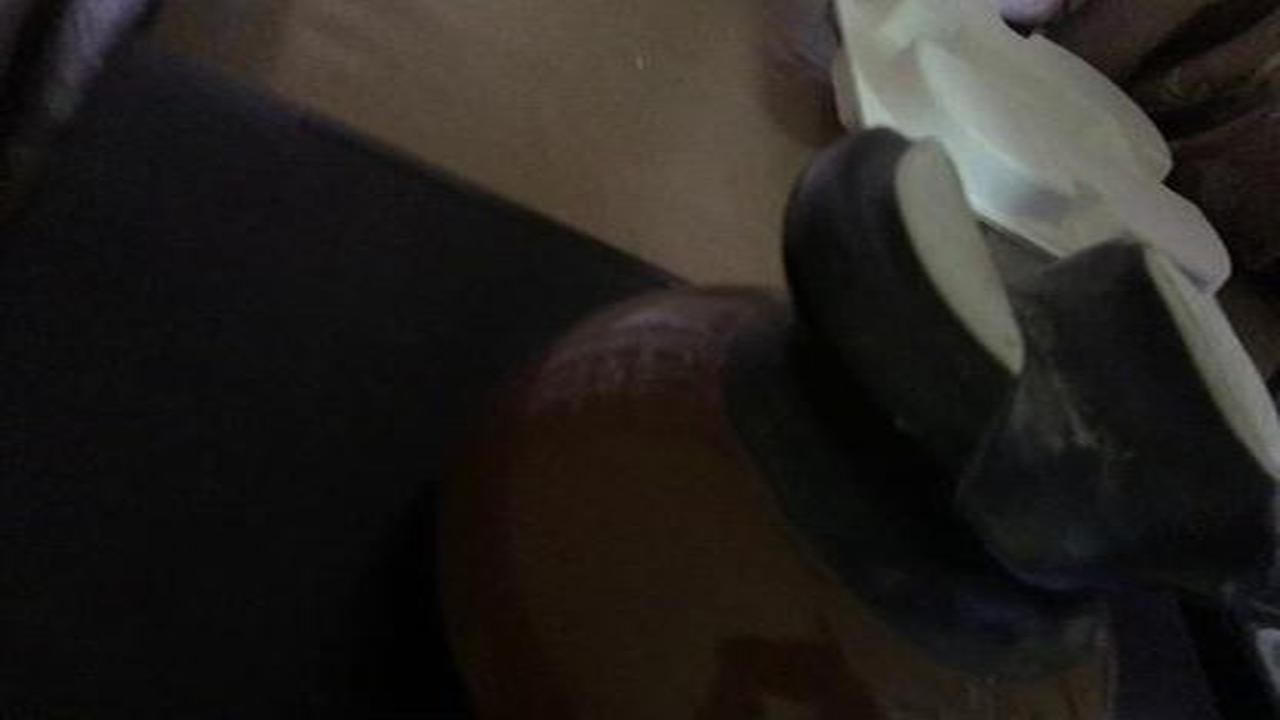insulator_pin: (397, 123, 1280, 710)
